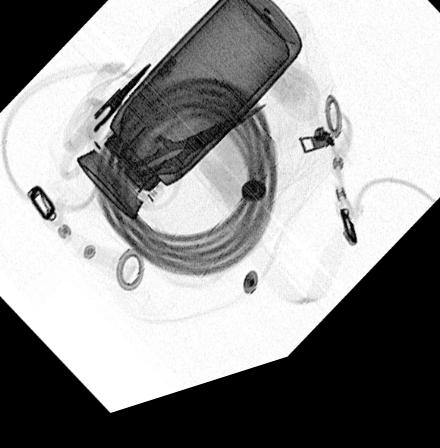Scissors: (102, 123, 266, 226), (58, 70, 152, 184)
